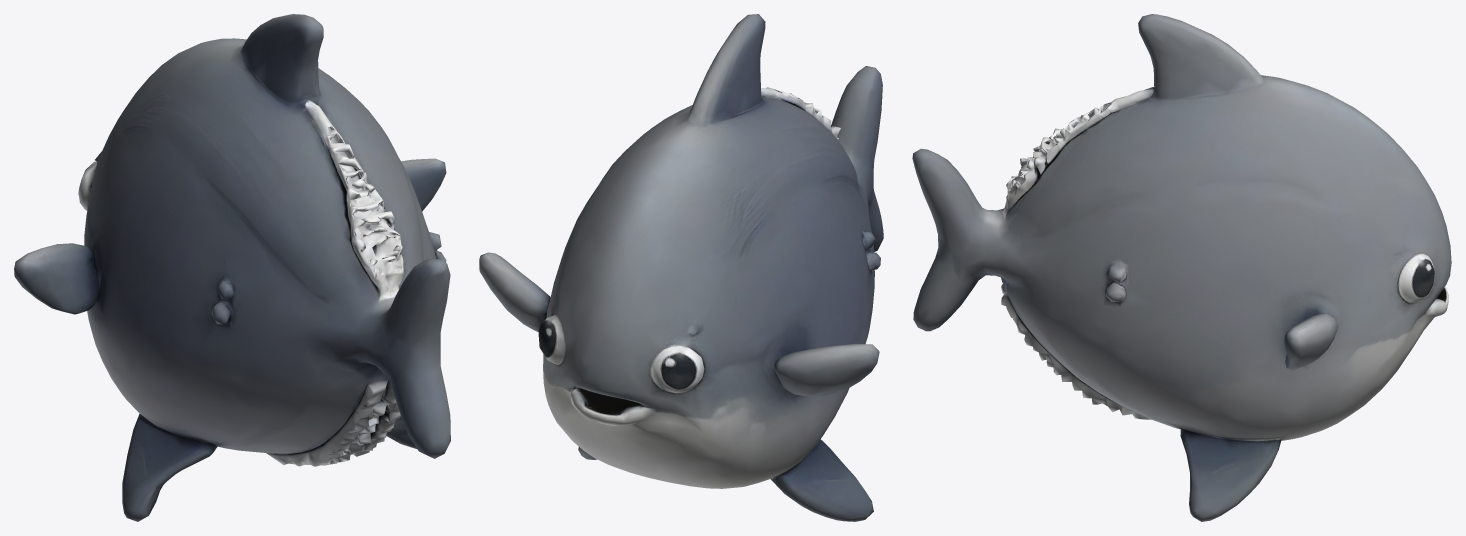
File: sunfish.glb
The picture shows the model from 3 angles, left to right: view 1: azimuth 30°, elevation 25°; view 2: azimuth 150°, elevation 25°; view 3: azimuth 270°, elevation 25°; orthographic projection. The views are drawn at different scales.
Parts seen in each view (by area): view 1: tripo_node_1fc1345f-6afe-4dc3-8a20-0a367e5867a8; view 2: tripo_node_1fc1345f-6afe-4dc3-8a20-0a367e5867a8; view 3: tripo_node_1fc1345f-6afe-4dc3-8a20-0a367e5867a8.
Boxes of the visible parts, left/top/right/bottom form: tripo_node_1fc1345f-6afe-4dc3-8a20-0a367e5867a8: left=14, top=14, right=450, bottom=521; tripo_node_1fc1345f-6afe-4dc3-8a20-0a367e5867a8: left=479, top=14, right=883, bottom=521; tripo_node_1fc1345f-6afe-4dc3-8a20-0a367e5867a8: left=912, top=14, right=1451, bottom=521.
Bounding box in the file's own units: 0.8331 × 0.9054 × 1.
1 material, 1 textured.
